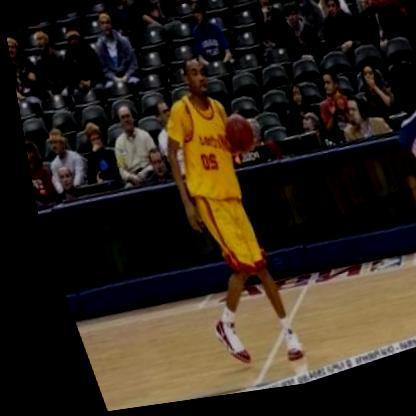basketball: (209, 113, 256, 164)
